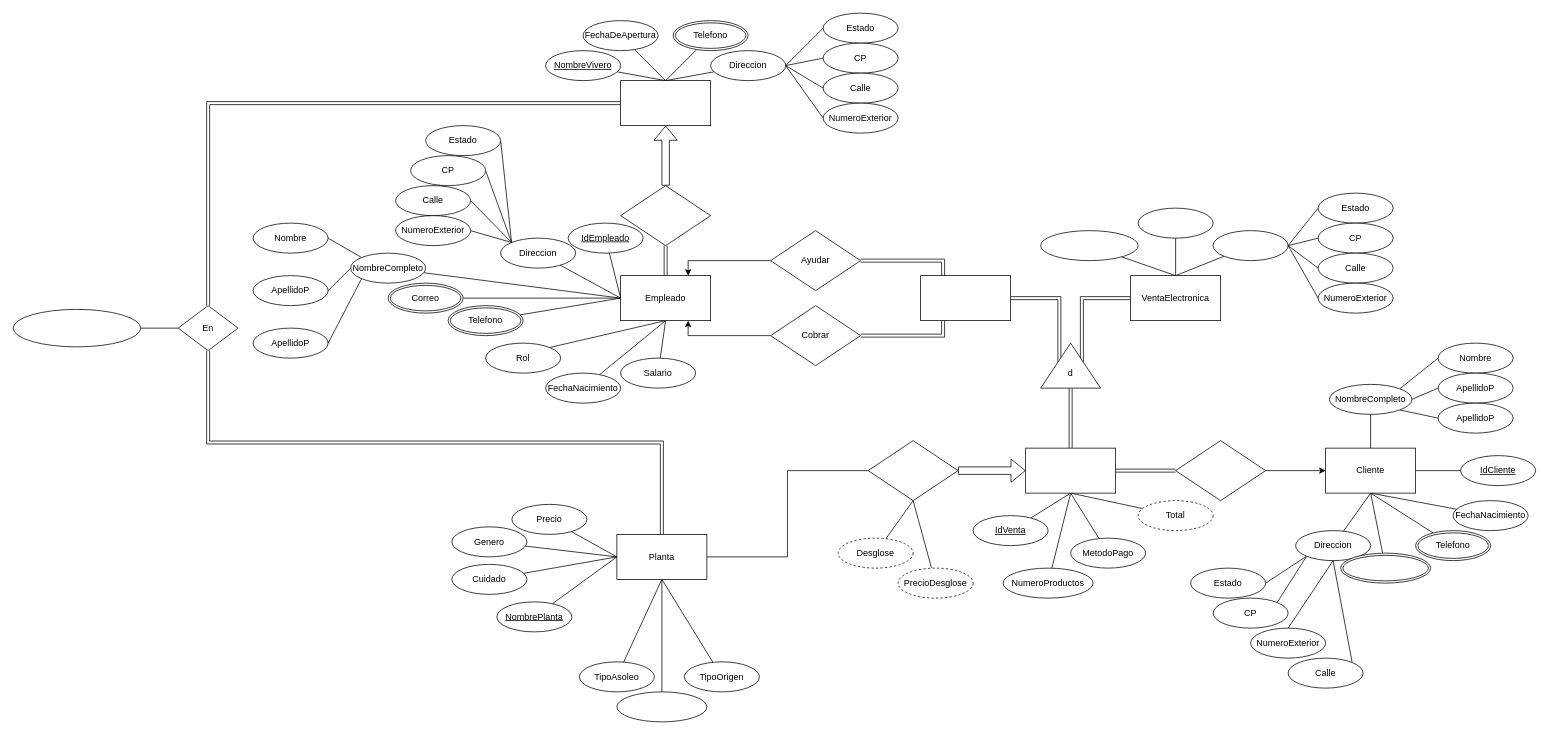
The diagram is 1549 pixels wide and 735 high, and some of its shapes have lost their labels. The shapes that lost their labels are listed below. From the top down, each one's box as (x1, y1, x2, y2) in pixels, then its label:
(620, 80, 711, 126): Vivero
(620, 185, 711, 246): Trabajar
(1137, 207, 1213, 238): FechaPedido
(1040, 230, 1138, 261): NumeroSeguimiento
(1212, 230, 1288, 261): DireccionEnvio
(920, 275, 1011, 321): VentaFisica
(12, 309, 141, 347): NumeroDePlantasEnVivero
(867, 440, 958, 501): Entregar
(1025, 447, 1116, 493): Venta
(1175, 440, 1266, 501): Pagar
(1340, 552, 1431, 583): CorreoElectronico
(616, 691, 707, 722): FechaGerminacion
